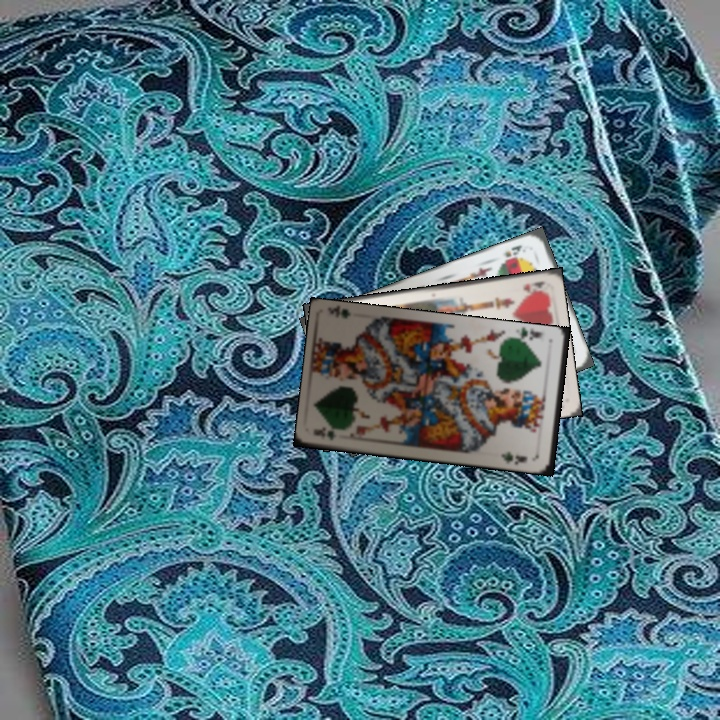GK: (511, 326, 545, 346), (316, 424, 339, 442)
HK: (519, 277, 547, 296)
SK: (500, 241, 524, 260)
